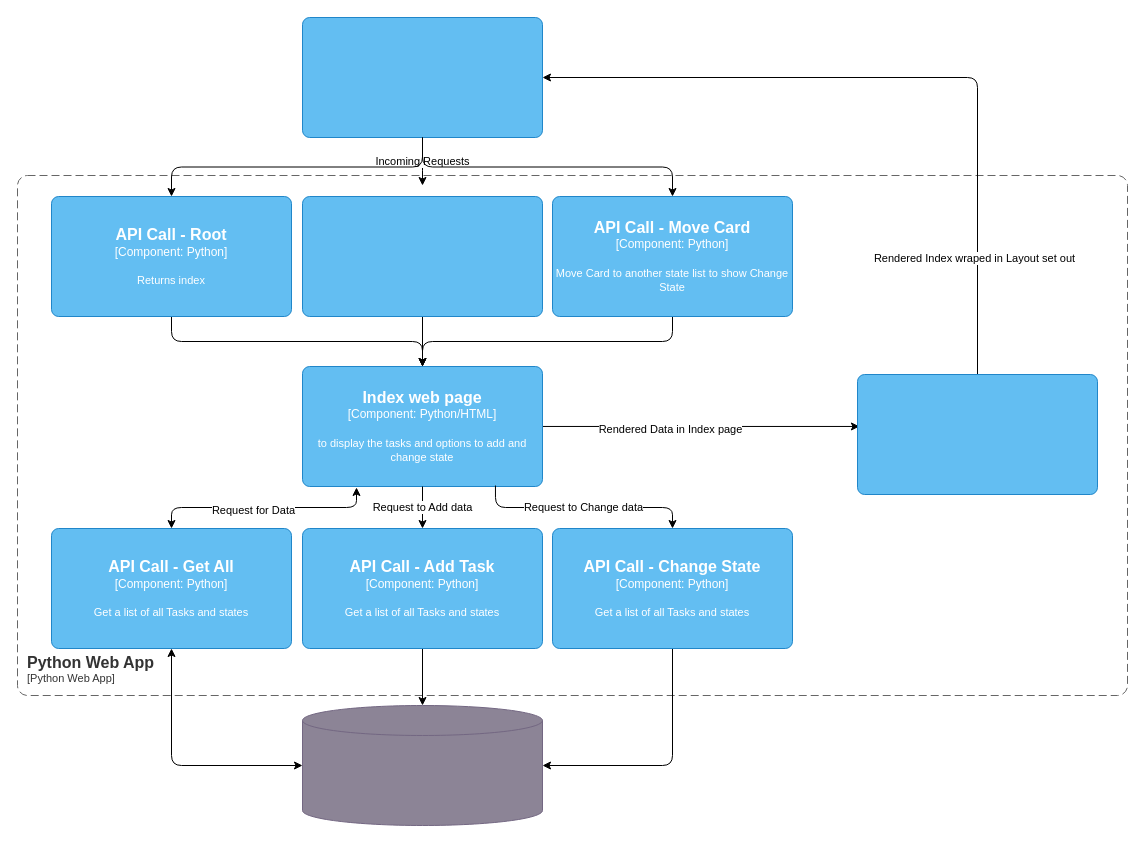
Image size: 1145x843. Some labels were removed from this diagram. The shapes that lost their labels are listed below. From the top down, each one's centre as x and y in pixels, then its label:
point (422, 77): Flask [Component: Web Framework] Web Framework
point (422, 256): API Call - New [Component: Python] Adds New Task
point (977, 434): Layout web page [Component: Python/HTML] Default Layout for all pages
point (422, 765): External Task Storage [Database: Trello] To store tasks and their state
